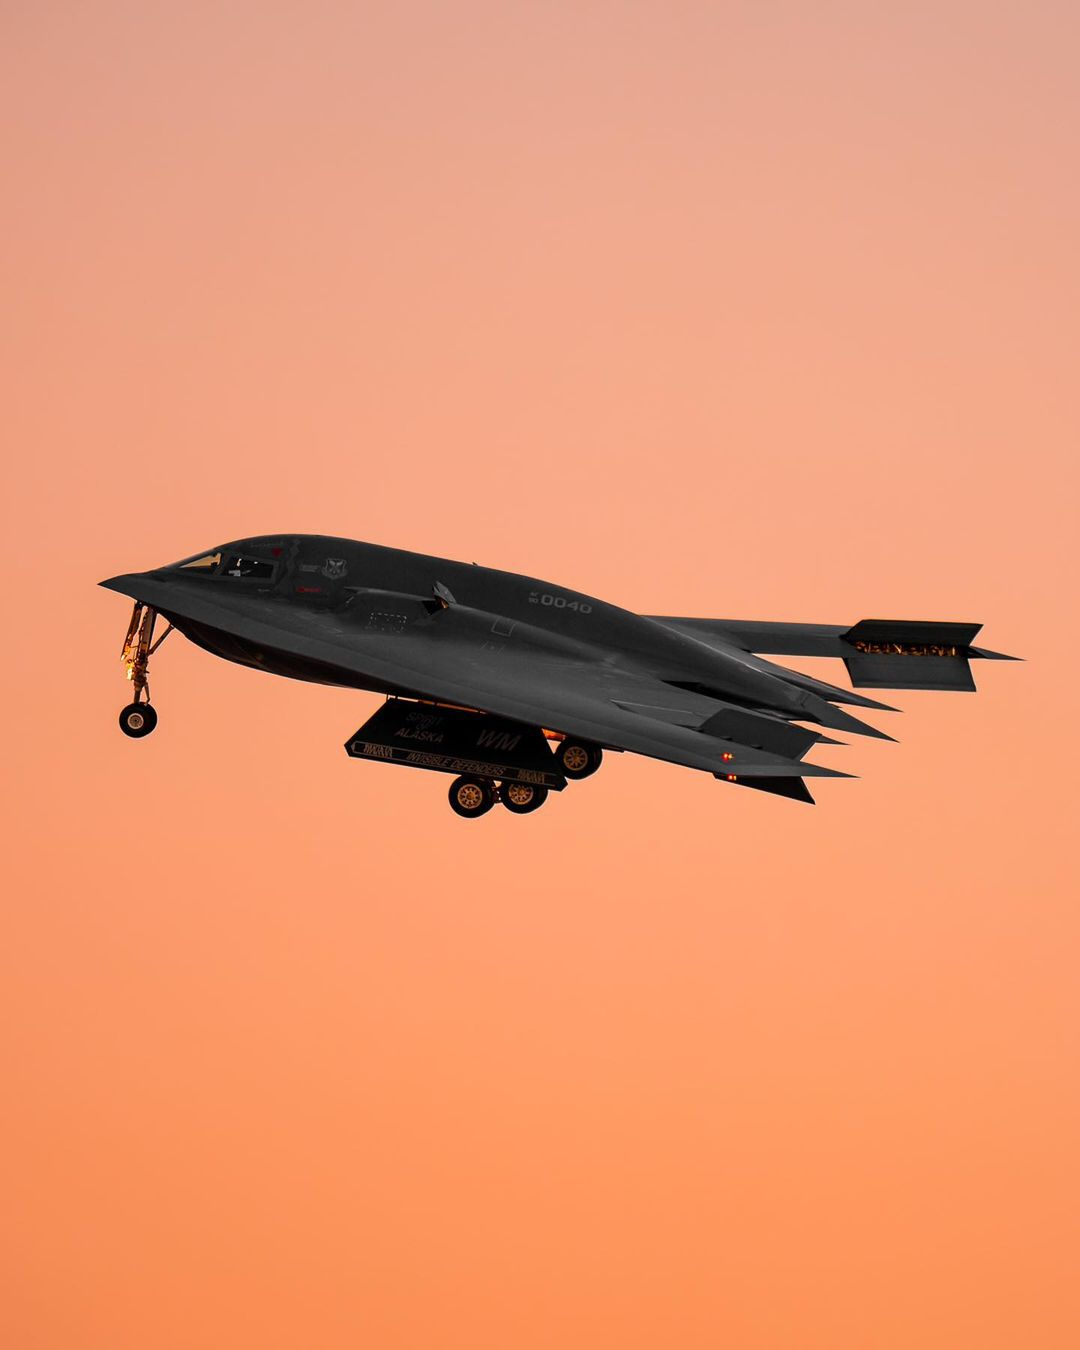B2: (96, 532, 1032, 818)
